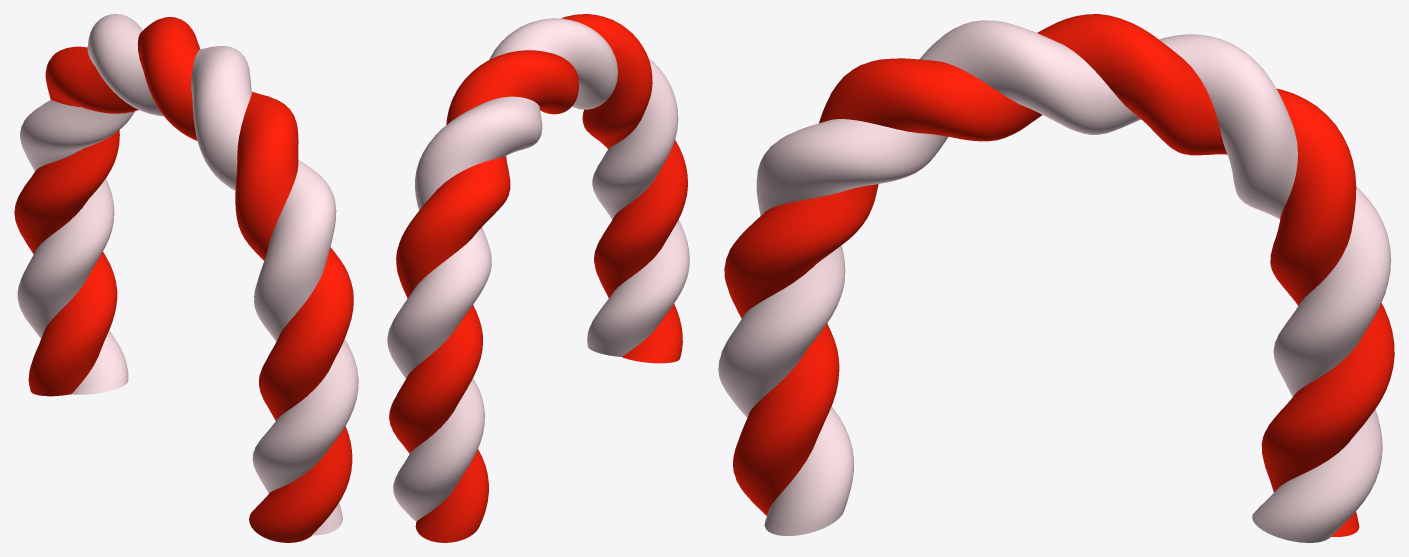
File: Gate.fbx
3 views of the same model, side by side, from view 1: azimuth 30°, elevation 25°; view 2: azimuth 150°, elevation 25°; view 3: azimuth 270°, elevation 25° (orthographic). The views are drawn at different scales.
Parts seen in each view (by area): view 1: Cylinder.002; view 2: Cylinder.002; view 3: Cylinder.002.
Boxes of the visible parts, bbox=[...] form: Cylinder.002: bbox=[14, 14, 358, 542]; Cylinder.002: bbox=[387, 14, 689, 542]; Cylinder.002: bbox=[718, 14, 1394, 542].
Size of the model in its own units: 14.5 by 56.16 by 66.43.
